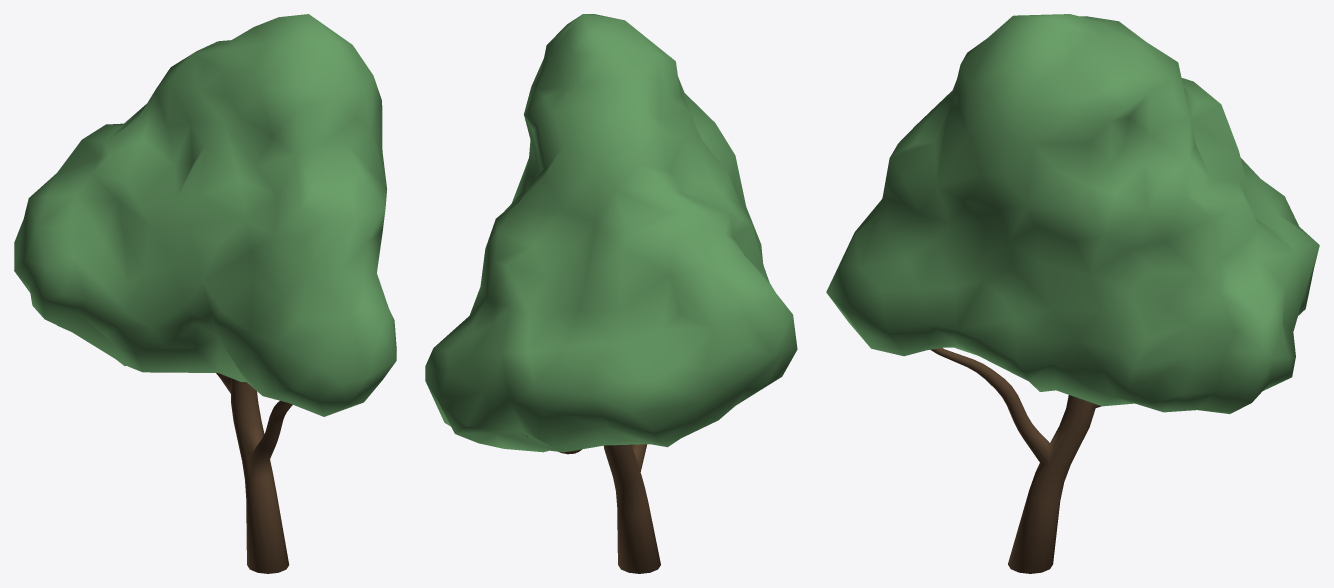
The model's file is Sauce Tree.fbx.
3 renders of one model, left to right at view 1: azimuth 30°, elevation 25°; view 2: azimuth 150°, elevation 25°; view 3: azimuth 270°, elevation 25°, orthographic. The views are drawn at different scales.
Parts seen in each view (by area): view 1: Leaf, BarkTree.001; view 2: Leaf, BarkTree.001; view 3: Leaf, BarkTree.001.
Boxes of the visible parts, x1,y1,x2,y2 form: Leaf: (14,14,396,416); BarkTree.001: (216,373,292,573); Leaf: (425,14,797,452); BarkTree.001: (527,436,660,573); Leaf: (826,14,1319,414); BarkTree.001: (930,348,1101,573).
Bounding box in the file's own units: 8.19 × 14.17 × 11.07.
